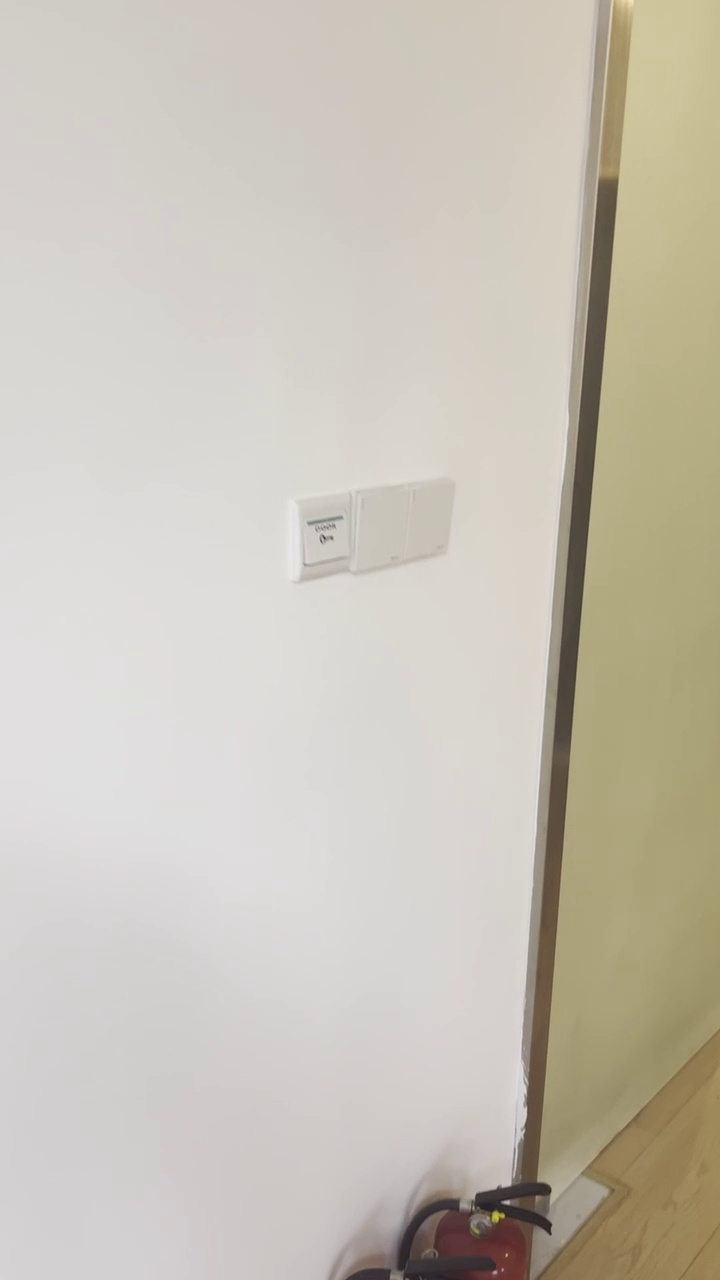button: (350, 483, 411, 575), (403, 479, 457, 566)
